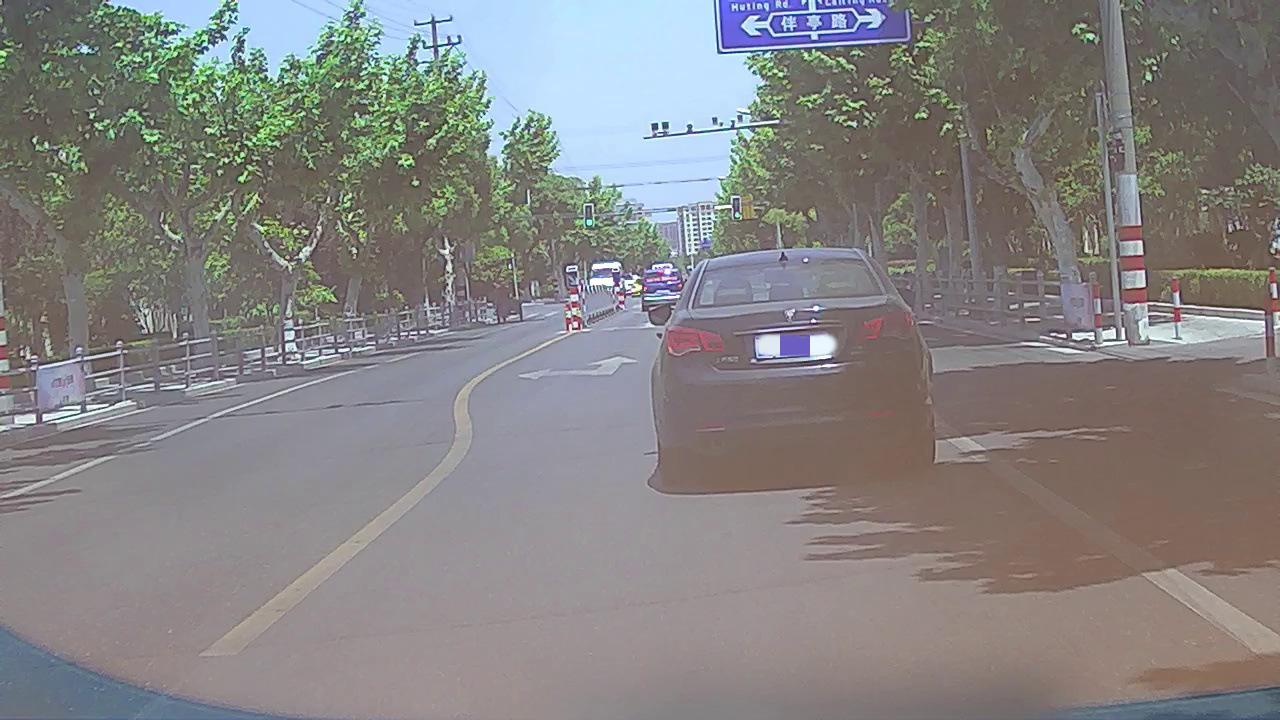traffic_light: (731, 197, 741, 220), (584, 204, 593, 228)
